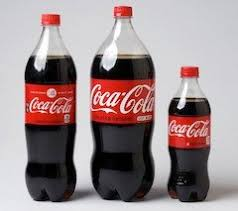coke: (97, 6, 155, 203), (28, 15, 79, 193), (170, 65, 210, 201)
